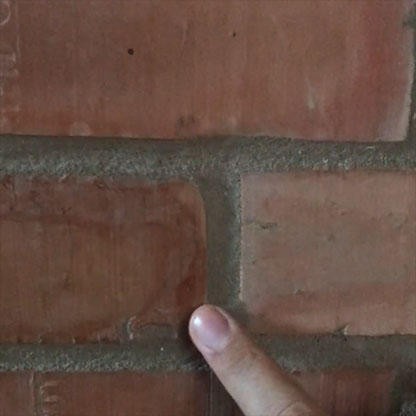fingertip: (180, 293, 245, 363)
